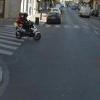Motorcycle: (8, 17, 58, 42)
